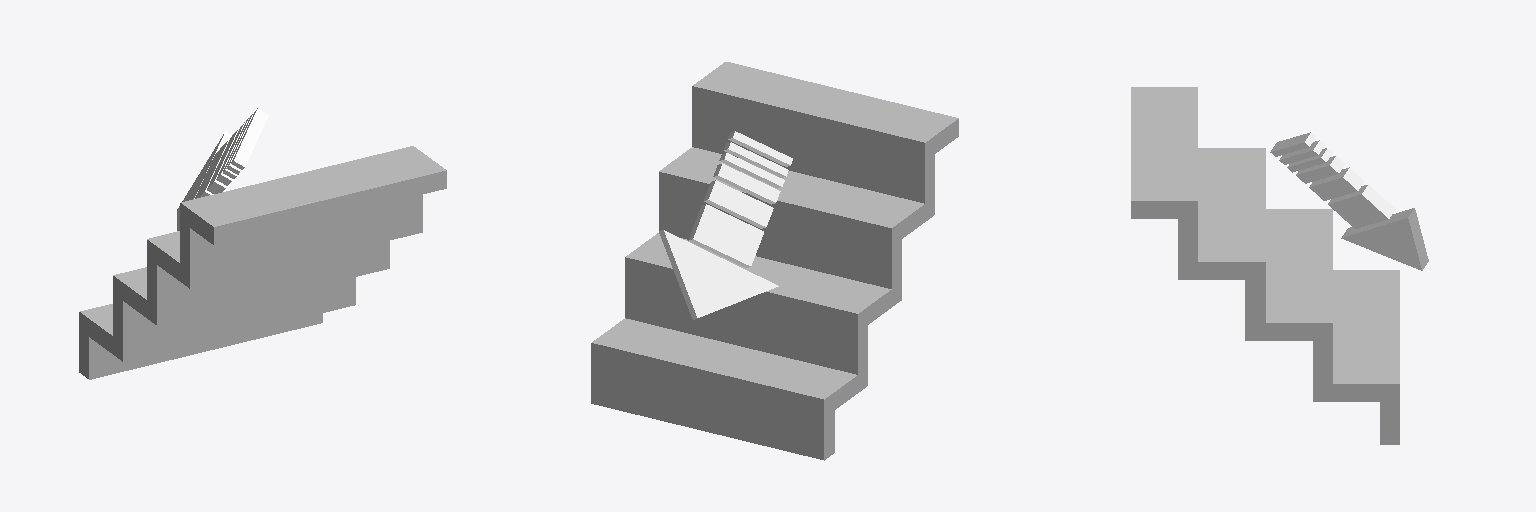
Rendered from stairsDown.obj.
3 views of the same model, side by side, from view 1: azimuth 30°, elevation 25°; view 2: azimuth 150°, elevation 25°; view 3: azimuth 270°, elevation 25° (orthographic).
Visible parts, largest first — view 1: Stairs_Cube, Box6, Box1; view 2: Stairs_Cube, Box1, Box, Box2, Box3, Box5, Box6, Box4; view 3: Stairs_Cube, Box1, Box, Box2, Box3, Box6.
Part boxes in pixels (x1,y1,x2,y2): Stairs_Cube: (79,146,446,379); Box6: (231,108,268,169); Box1: (177,131,231,230); Stairs_Cube: (591,62,958,460); Box1: (659,230,778,319); Box: (688,204,763,267); Box2: (704,180,773,228); Box3: (713,163,780,204); Box5: (723,142,788,177); Box6: (728,131,792,166); Box4: (719,153,784,188); Stairs_Cube: (1131,87,1399,444); Box1: (1341,208,1428,270); Box: (1328,184,1395,228); Box2: (1309,167,1364,200); Box3: (1296,155,1345,183); Box6: (1270,132,1315,156).
Size of the model in its own units: 2 by 2.17 by 2.21.